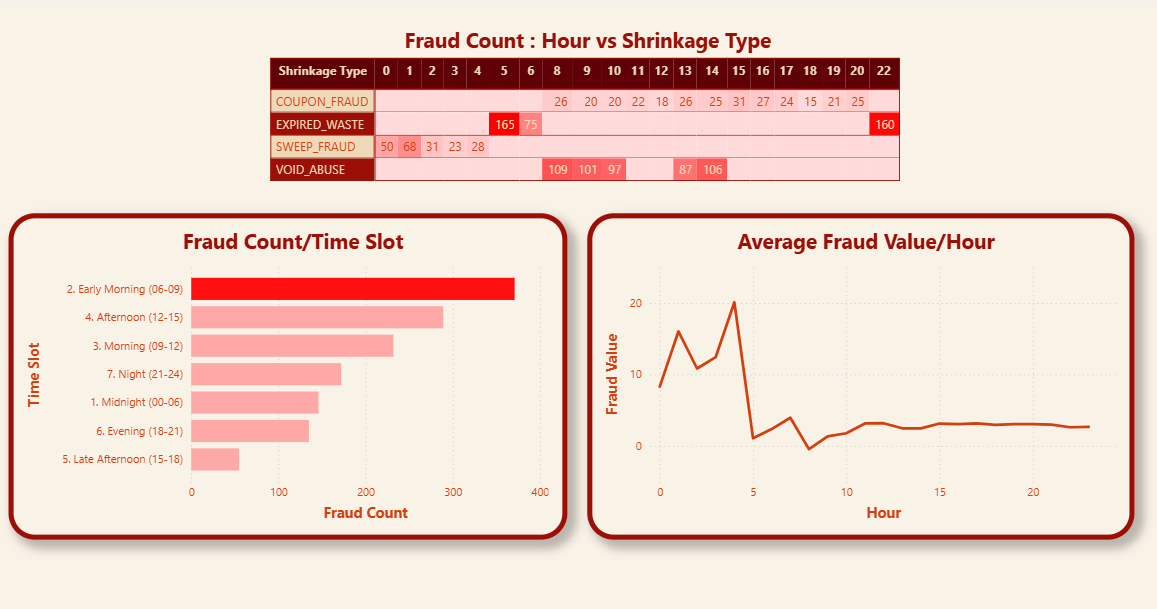

The page's visual inventory and layout, read from the dashboard file:
{"tool":"powerbi","page":{"name":"Time Pattern Analysis","canvas":[1280,720],"ordinal":2},"visuals":[{"type":"pivotTable","title":"Fraud Count : Hour vs Shrinkage Type","fields":{"Rows":["fact_transactions.SHRINKAGE_TYPE"],"Columns":["fact_transactions.HOUR"],"Values":["CountNonNull(fact_transactions.IS_FRAUD)"]},"box":[296.4,75.5,706.7,183.9],"z":0},{"type":"clusteredBarChart","title":"Fraud Count/Time Slot","fields":{"Category":["Q2_Time_Pattern.time_slot"],"Y":["Sum(Q2_Time_Pattern.fraud_count)"]},"box":[14,280.8,613.4,358.1],"z":1000},{"type":"lineChart","title":"Average Fraud Value/Hour","fields":{"Category":["fact_transactions.HOUR"],"Y":["Avg(fact_transactions.SALES_VALUE)"]},"box":[649.3,280.8,601,358.1],"z":2000}]}

Visuals, with their boxes in screenshot pixels (x1, y1, x2, y2):
"Fraud Count : Hour vs Shrinkage Type" pivotTable: region(266, 28, 899, 193)
"Fraud Count/Time Slot" clusteredBarChart: region(13, 212, 562, 533)
"Average Fraud Value/Hour" lineChart: region(582, 212, 1120, 533)
